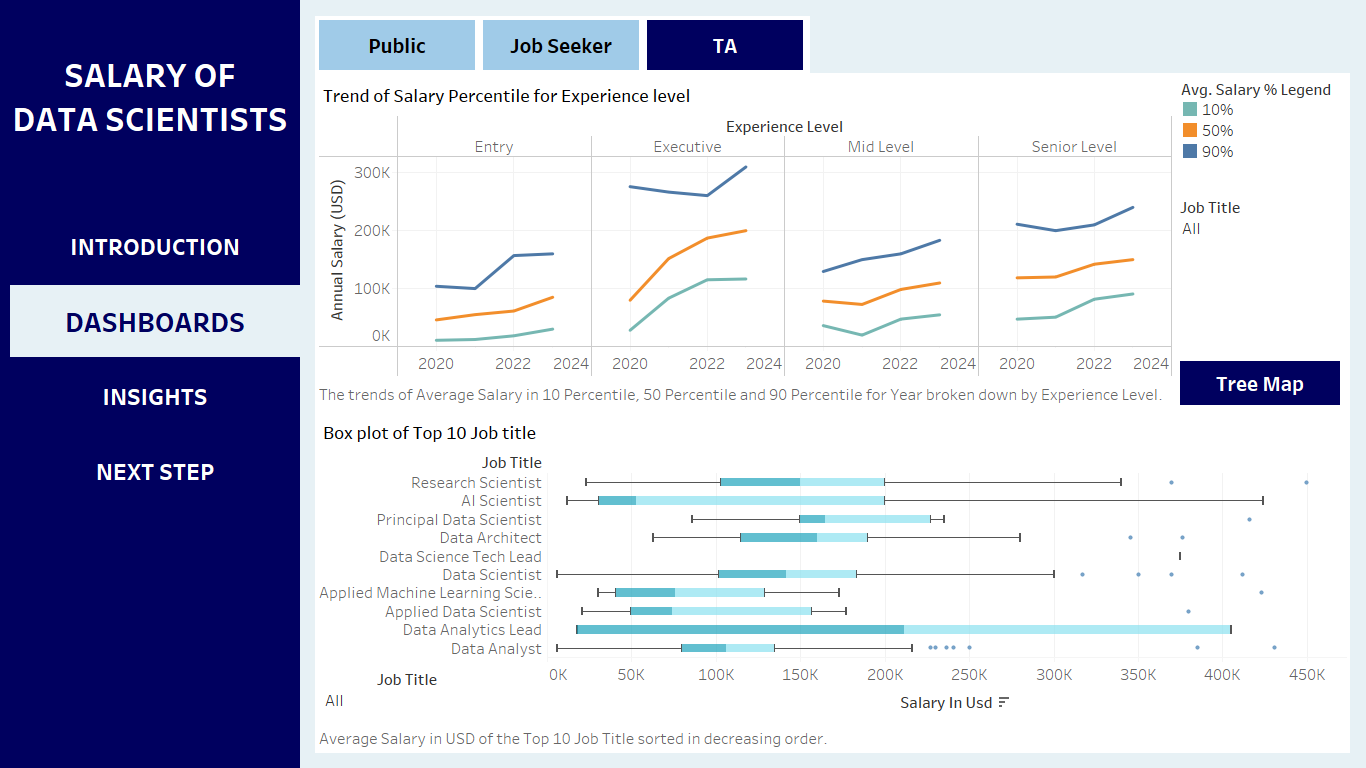

What the dashboard file says about the page in this screenshot:
{"tool":"tableau","page":{"name":"_dashboards_3","canvas":[1366,768],"ordinal":10},"visuals":[{"type":"dashboard-object","box":[315,16,164,58]},{"type":"dashboard-object","box":[479,16,164,58]},{"type":"dashboard-object","box":[643,16,164,58]},{"type":"text","box":[0,25,300,142]},{"type":"worksheet","title":"Trend of Salary Percentile for Experience level","mark":"Line","cols":["experience_level","work_year"],"box":[315,73,861,337]},{"type":"legend","title":"Trend of Salary Percentile for Experience level","param":"[federated.1ubzi4w18pd77j1g8wl2v0i1bgqj].[:Measure Names]","box":[1176,73,168,119]},{"type":"filter","title":"Trend of Salary Percentile for Experience level","param":"[federated.1ubzi4w18pd77j1g8wl2v0i1bgqj].[none:job_title:nk]","box":[1176,192,168,81]},{"type":"text","box":[10,210,290,72]},{"type":"dashboard-object","box":[1176,273,168,52]},{"type":"text","box":[10,285,290,72]},{"type":"highlighter","title":"Box plot","param":"[federated.1ubzi4w18pd77j1g8wl2v0i1bgqj].[none:job_title:nk]","box":[1176,325,168,62]},{"type":"text","box":[10,360,290,72]},{"type":"worksheet","title":"Box plot","mark":"Shape","rows":["job_title"],"cols":["salary_in_usd"],"box":[315,410,1035,343]},{"type":"text","box":[10,435,290,72]},{"type":"filter","title":"Box plot","param":"[federated.1ubzi4w18pd77j1g8wl2v0i1bgqj].[none:job_title:nk]","box":[323,668,168,54]}]}

Visuals, with their boxes in screenshot pixels (x1, y1, x2, y2), scaled from the page's 1366x768 canvas onto the 1366x768 screenshot:
dashboard-object: crop(315, 16, 479, 74)
dashboard-object: crop(479, 16, 643, 74)
dashboard-object: crop(643, 16, 807, 74)
text: crop(0, 25, 300, 167)
"Trend of Salary Percentile for Experience level" worksheet (Line marks): crop(315, 73, 1176, 410)
"Trend of Salary Percentile for Experience level" legend: crop(1176, 73, 1344, 192)
"Trend of Salary Percentile for Experience level" filter: crop(1176, 192, 1344, 273)
text: crop(10, 210, 300, 282)
dashboard-object: crop(1176, 273, 1344, 325)
text: crop(10, 285, 300, 357)
"Box plot" highlighter: crop(1176, 325, 1344, 387)
text: crop(10, 360, 300, 432)
"Box plot" worksheet (Shape marks): crop(315, 410, 1350, 753)
text: crop(10, 435, 300, 507)
"Box plot" filter: crop(323, 668, 491, 722)
